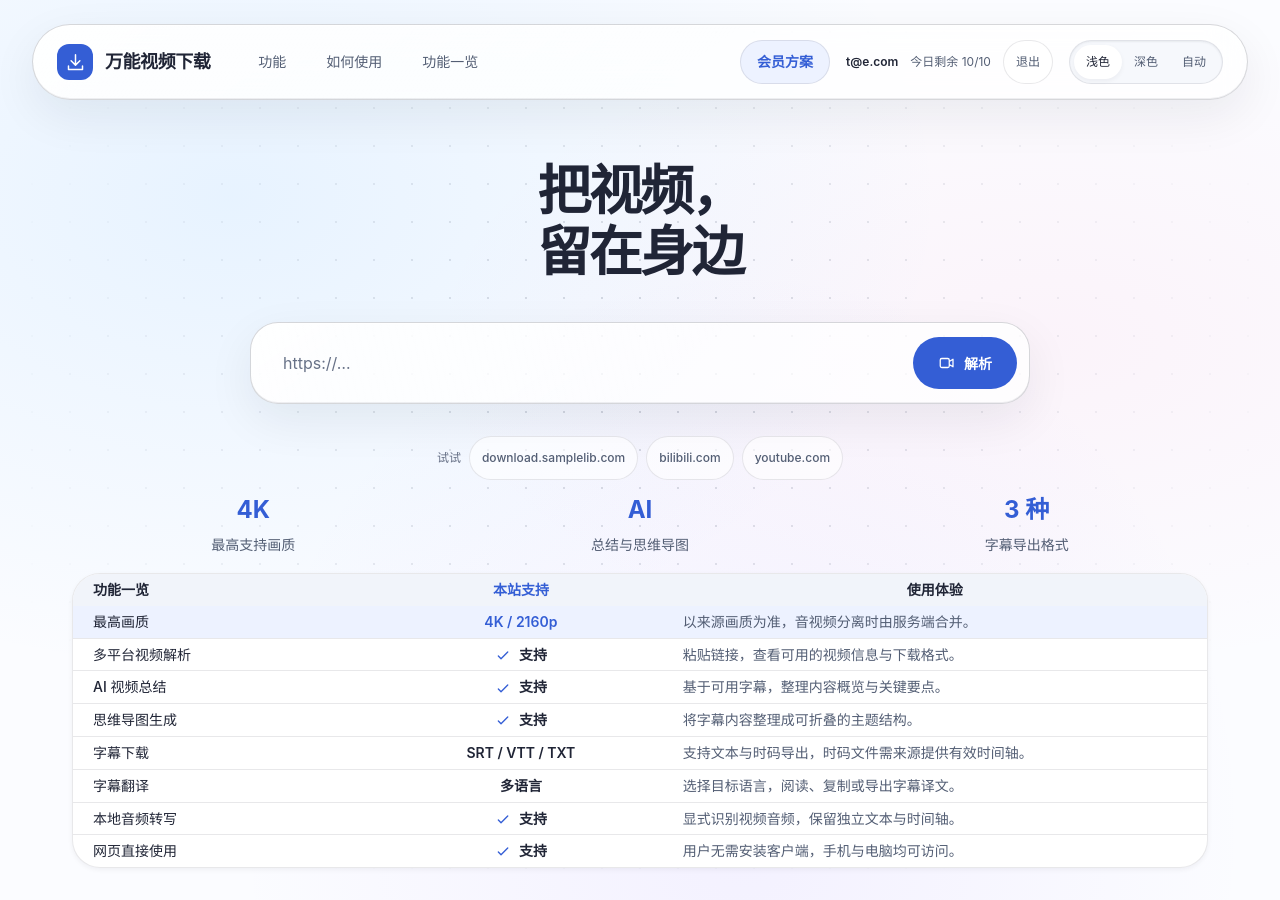
Test: App 功能闭环 › 渲染 invalid_url 错误场景
Type "https://x" into the field named "视频链接" at (582, 363), box [263,335,901,391]
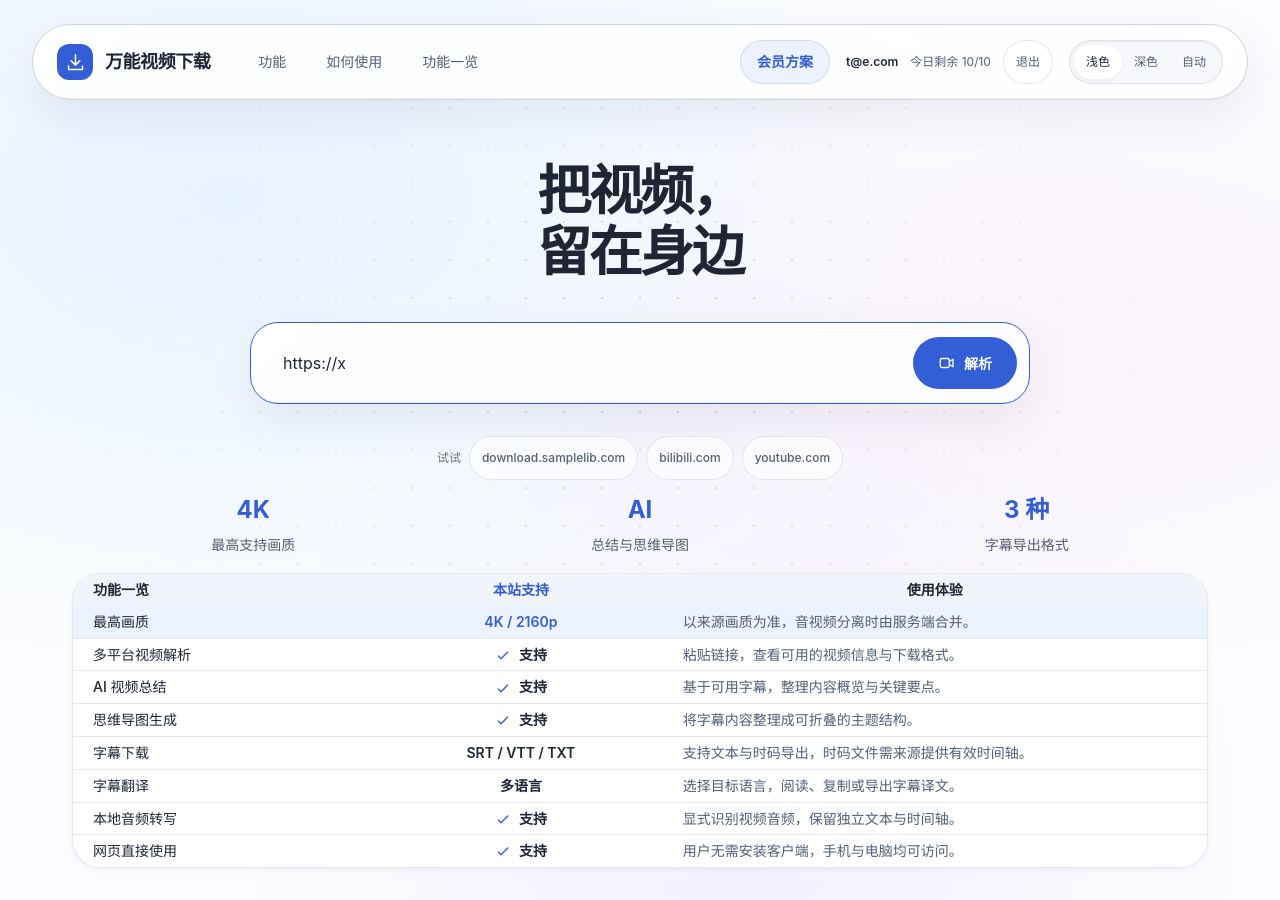
Click the button "解析" at (965, 363), box [913,337,1017,389]
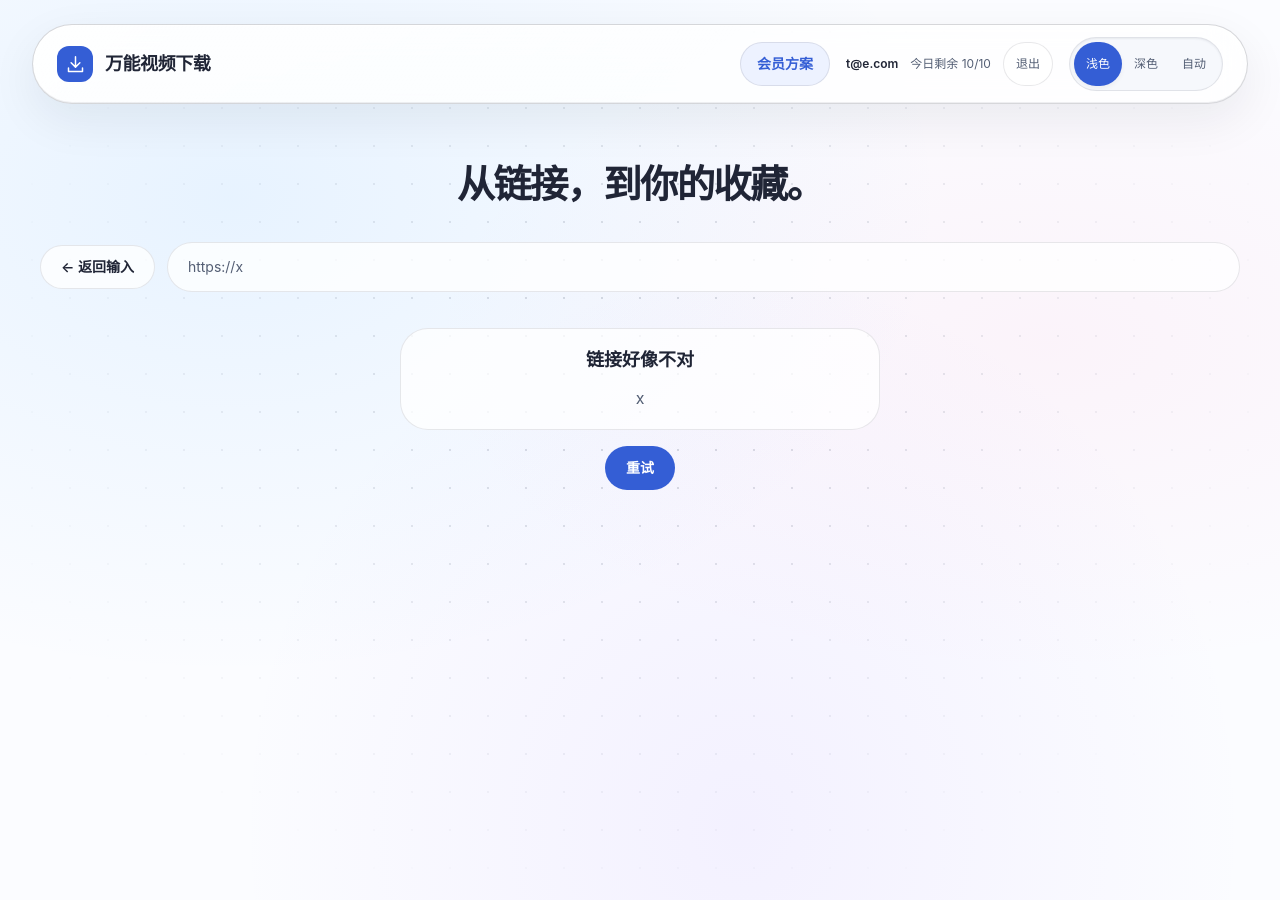
Expected: the element with test id "error-scene" is shown, [400,328,880,490]
